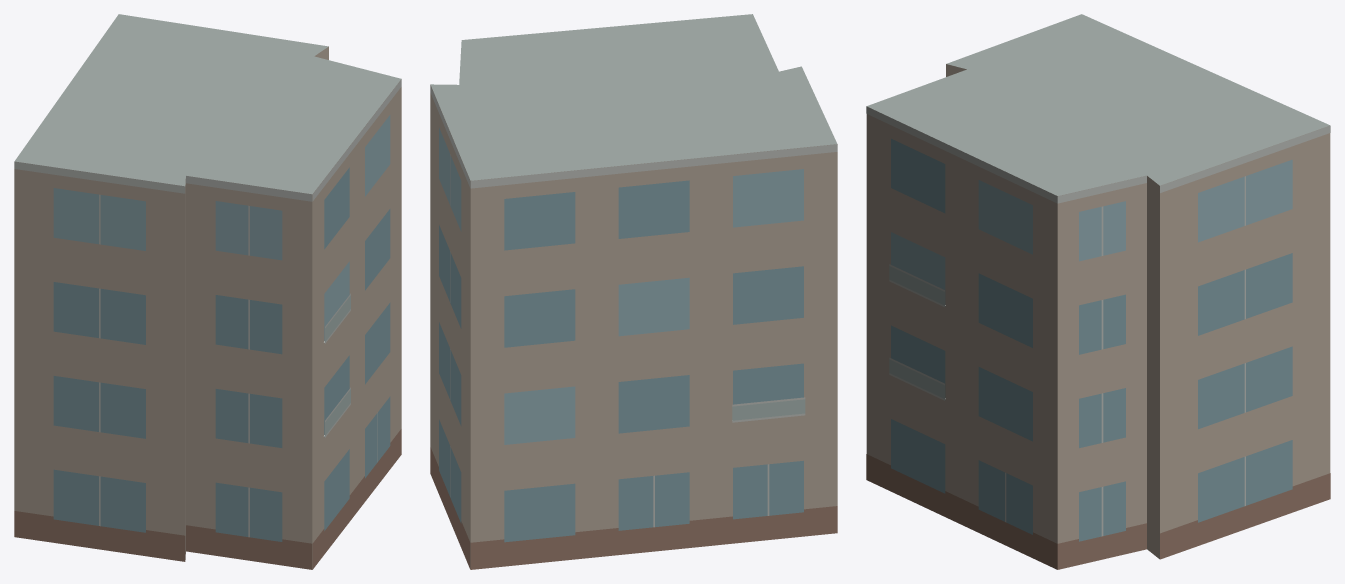
File: survey-upis-32856295.glb
3 views of the same model, side by side, from view 1: azimuth 30°, elevation 25°; view 2: azimuth 150°, elevation 25°; view 3: azimuth 270°, elevation 25° (orthographic). The views are drawn at different scales.
Parts seen in each view (by area): view 1: survey-upis-32856295.tmp; view 2: survey-upis-32856295.tmp; view 3: survey-upis-32856295.tmp.
Boxes of the visible parts, x1,y1,x2,y2 form: survey-upis-32856295.tmp: (14, 14, 401, 569); survey-upis-32856295.tmp: (430, 14, 837, 569); survey-upis-32856295.tmp: (866, 14, 1330, 569).
Size of the model in its own units: 12.76 by 12.2 by 13.73.
